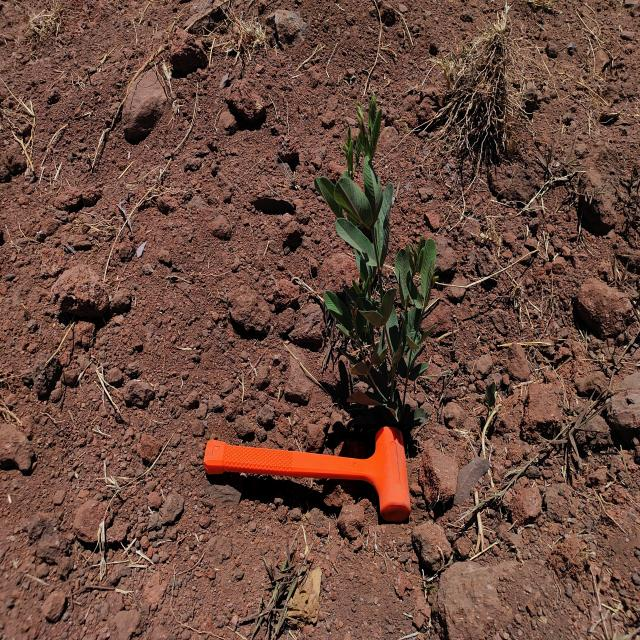Orange_hammer: (202, 424, 412, 523)
